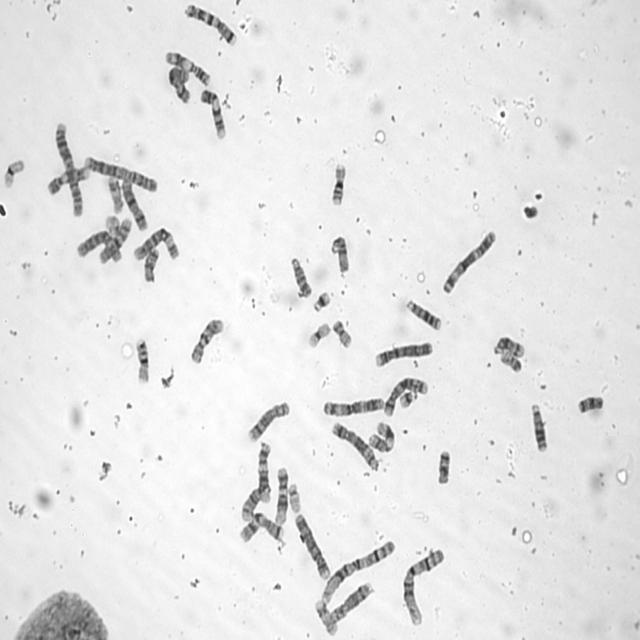A1: (317, 536, 398, 606), (399, 544, 446, 628)
A2: (52, 119, 84, 219), (81, 152, 159, 193)
A3: (439, 227, 498, 294), (321, 393, 386, 418)
B4: (292, 510, 332, 581), (372, 338, 434, 368)
B5: (328, 419, 379, 472), (382, 372, 431, 418)
C10: (97, 214, 134, 265), (188, 314, 225, 365)
C11: (162, 46, 212, 86), (366, 419, 396, 454)
C12: (255, 438, 274, 504), (272, 463, 289, 526)
C6: (131, 224, 180, 262), (75, 227, 124, 265)
C7: (182, 0, 238, 47), (238, 509, 286, 544)
C8: (244, 397, 290, 443), (329, 578, 375, 624)
C9: (45, 162, 91, 196), (199, 85, 227, 140)
D13: (403, 295, 442, 331), (528, 399, 548, 454)
D14: (239, 483, 267, 523), (492, 331, 526, 359)
D15: (287, 252, 313, 298), (328, 230, 352, 275)
E16: (132, 334, 151, 385), (329, 158, 348, 207)
E17: (313, 597, 339, 637), (105, 173, 125, 213)
E18: (142, 245, 162, 283), (434, 445, 452, 487), (576, 395, 604, 416)
F19: (1, 155, 27, 189), (306, 318, 332, 348)
F20: (330, 316, 354, 350), (498, 348, 523, 373)
G21: (310, 286, 332, 313), (398, 388, 418, 409)
G22: (286, 480, 302, 514), (102, 212, 122, 238)
X: (119, 175, 149, 232), (166, 64, 192, 107)
